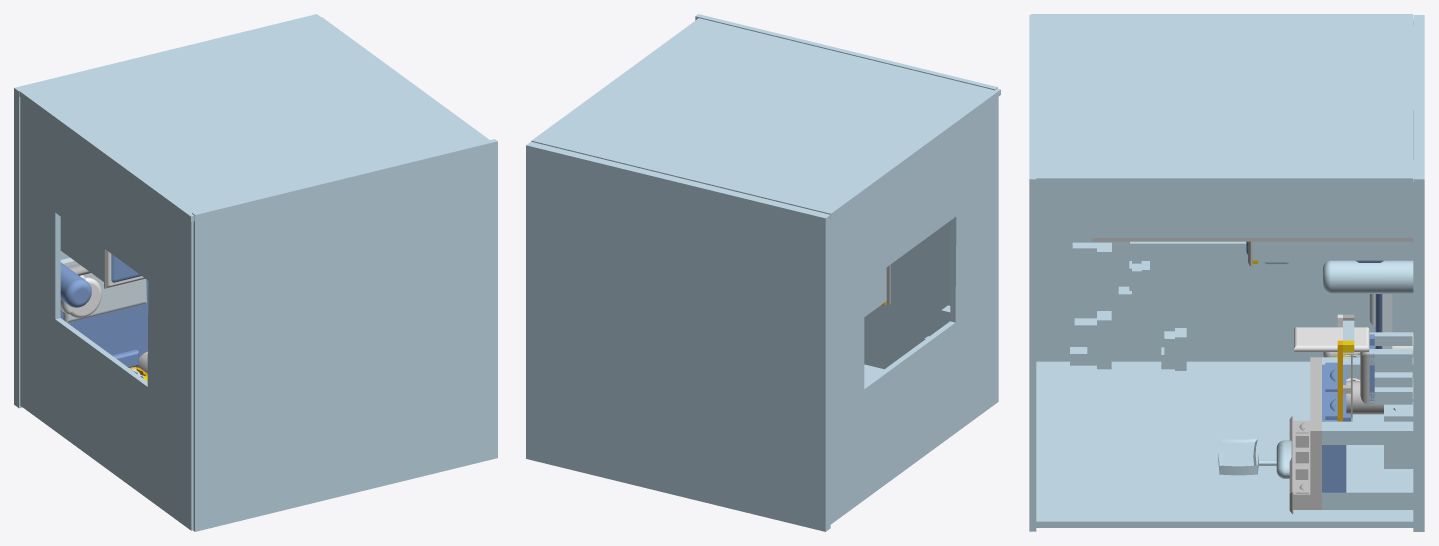
File: Playhouse Assembly.gltf
3 renders of one model, left to right at view 1: azimuth 30°, elevation 25°; view 2: azimuth 150°, elevation 25°; view 3: azimuth 270°, elevation 25°, orthographic. The views are drawn at different scales.
Parts seen in each view (by area): view 1: Part 1 (×5), Part 19, Part 21, Part 3, Part 20; view 2: Part 1 (×5); view 3: Part 1 (×11), Part 2 (×4), Part 5 (×2), Part 3 (×2), Part 6, Part 7, Part 4, Part 8.
Part boxes in pixels (x1,y1,x2,y2): Part 1 (×5): [14, 14, 497, 531]; Part 19: [60, 279, 148, 367]; Part 21: [63, 273, 146, 322]; Part 3: [60, 262, 91, 307]; Part 20: [60, 275, 101, 317]; Part 1 (×5): [526, 14, 1000, 531]; Part 1 (×11): [1029, 14, 1424, 531]; Part 2 (×4): [1092, 238, 1413, 444]; Part 5 (×2): [1289, 350, 1369, 514]; Part 3 (×2): [1322, 349, 1413, 509]; Part 6: [1322, 362, 1346, 492]; Part 7: [1294, 314, 1369, 351]; Part 4: [1369, 332, 1412, 345]; Part 8: [1337, 340, 1342, 421].
Size of the model in its own units: 0.1417 by 0.1408 by 0.1422.
